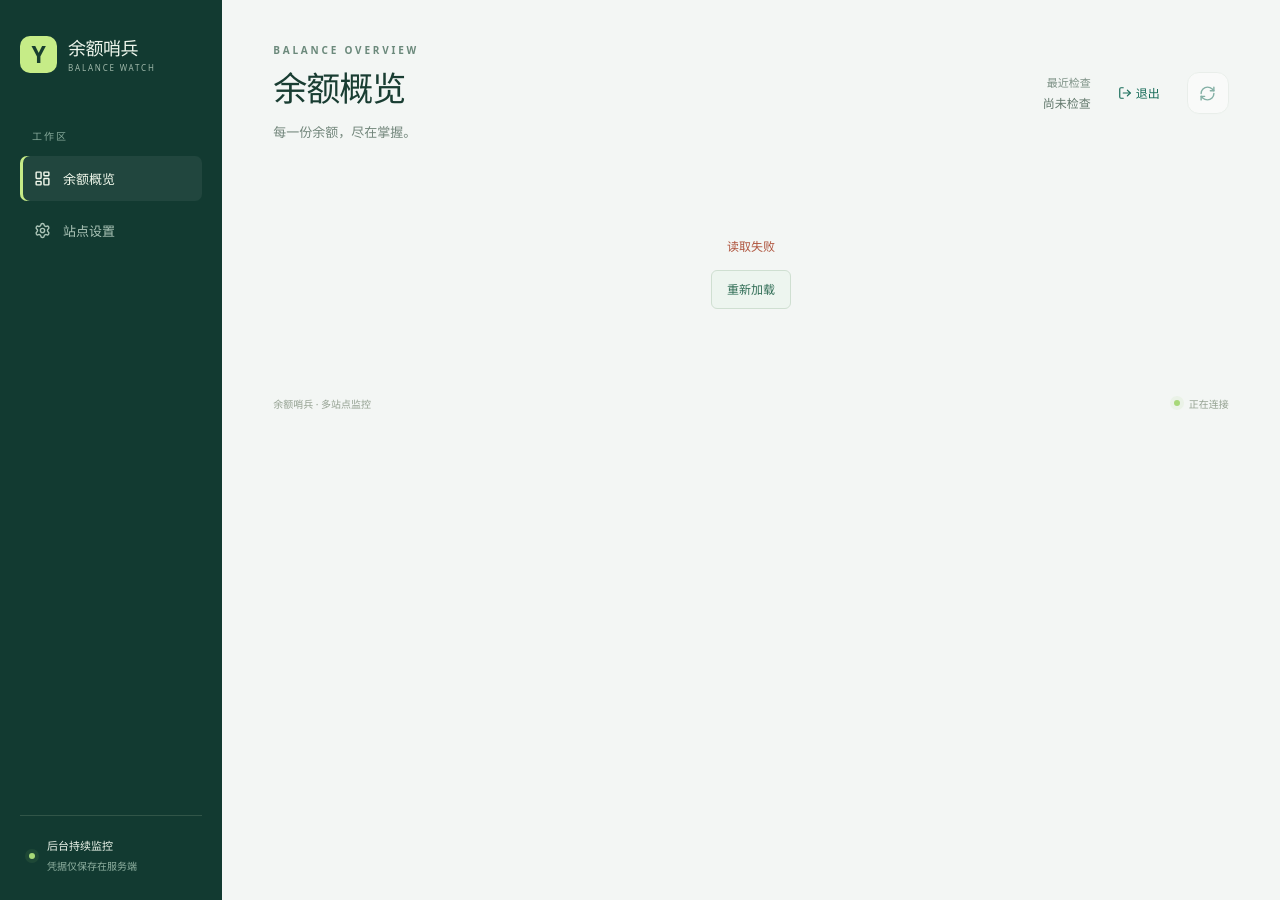
Scenario: React 页面流程 › 站点读取失败时可以重试，不会误保存空配置
Expected: the text "读取失败" is shown, [727, 238, 775, 255]
Click the button "重新加载": coordinates (751, 289) [711, 270, 791, 309]
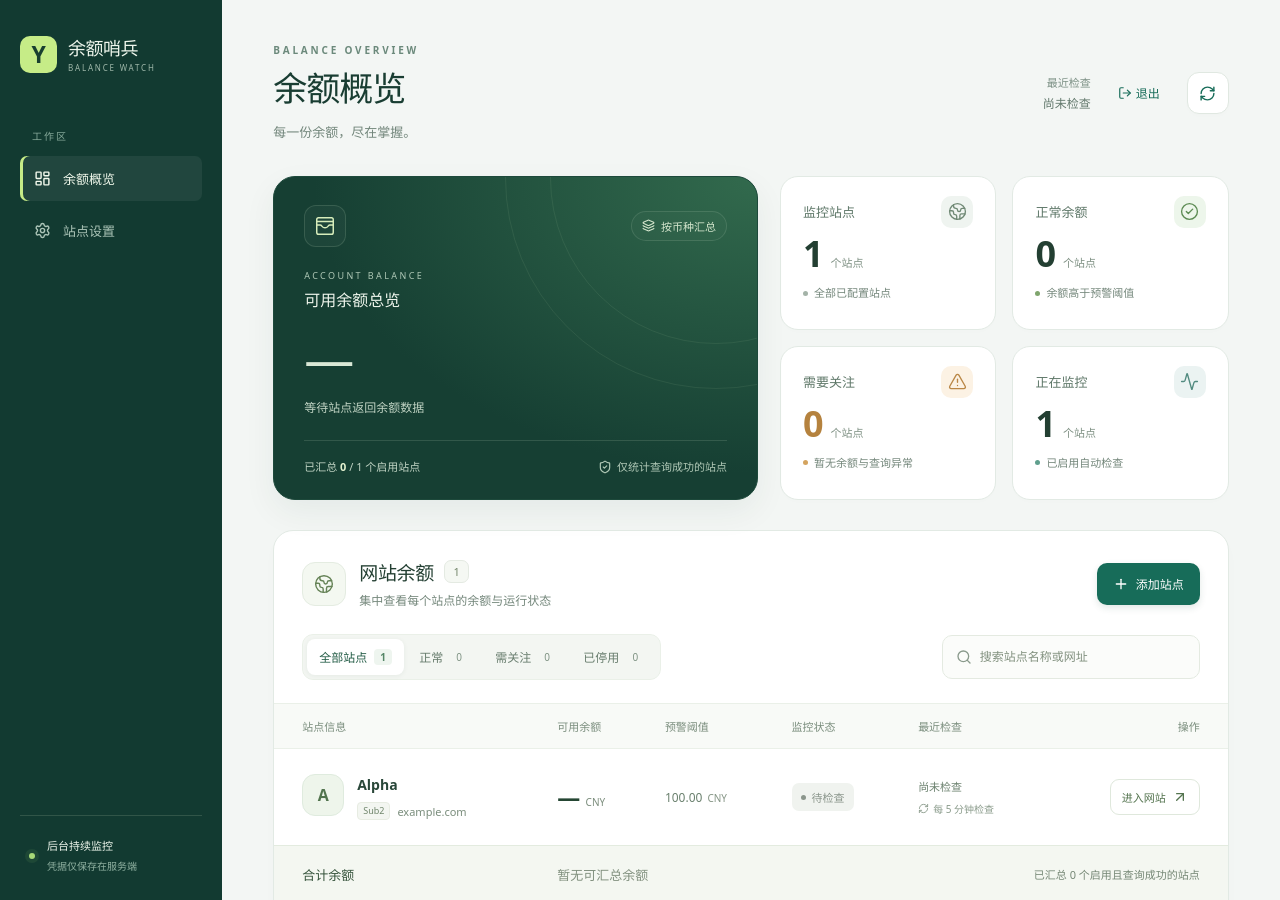
Result: the button "Alpha" is shown at [357, 774, 398, 795]
